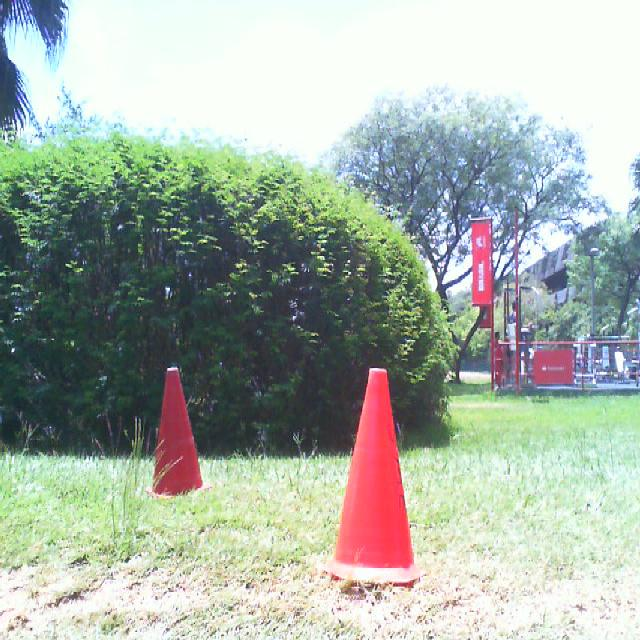cone: (323, 369, 426, 585), (145, 368, 212, 496)
